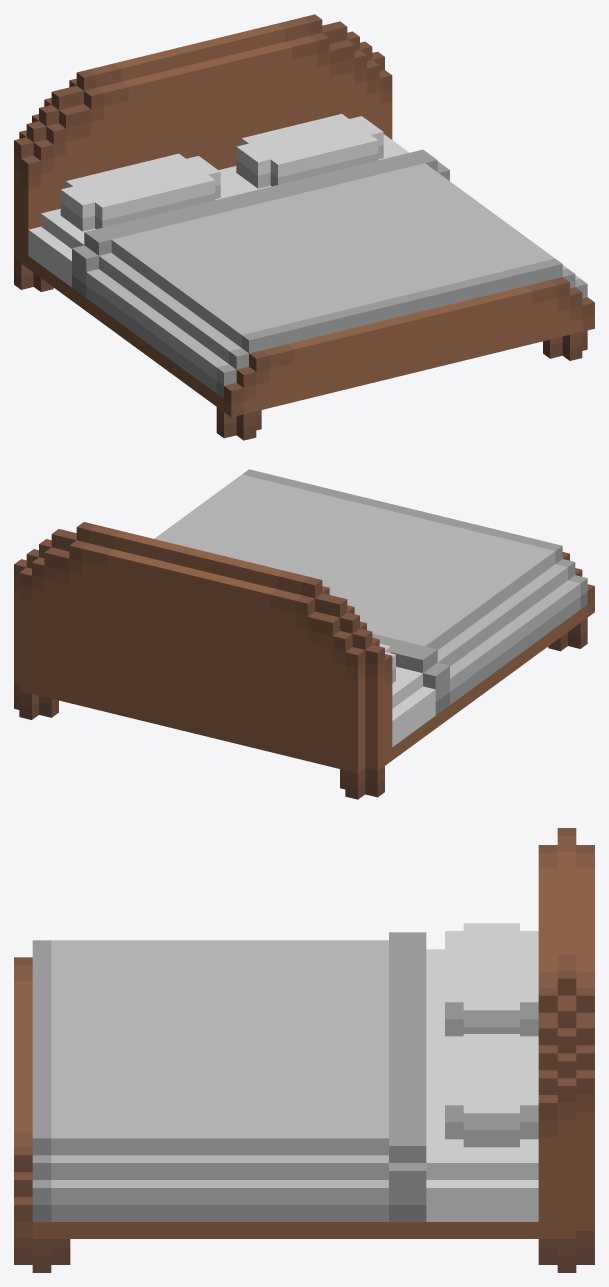
The model's file is Bed3.glb.
The picture shows the model from 3 angles, top to bottom: view 1: azimuth 30°, elevation 25°; view 2: azimuth 150°, elevation 25°; view 3: azimuth 270°, elevation 25°; orthographic projection. The views are drawn at different scales.
Parts seen in each view (by area): view 1: Untitled; view 2: Untitled; view 3: Untitled.
Boxes of the visible parts, left/top/right/bottom form: Untitled: left=14, top=14, right=594, bottom=440; Untitled: left=14, top=469, right=594, bottom=799; Untitled: left=14, top=828, right=594, bottom=1272.
Size of the model in its own units: 2.9 by 1.5 by 3.1.
1 material, 1 textured.
